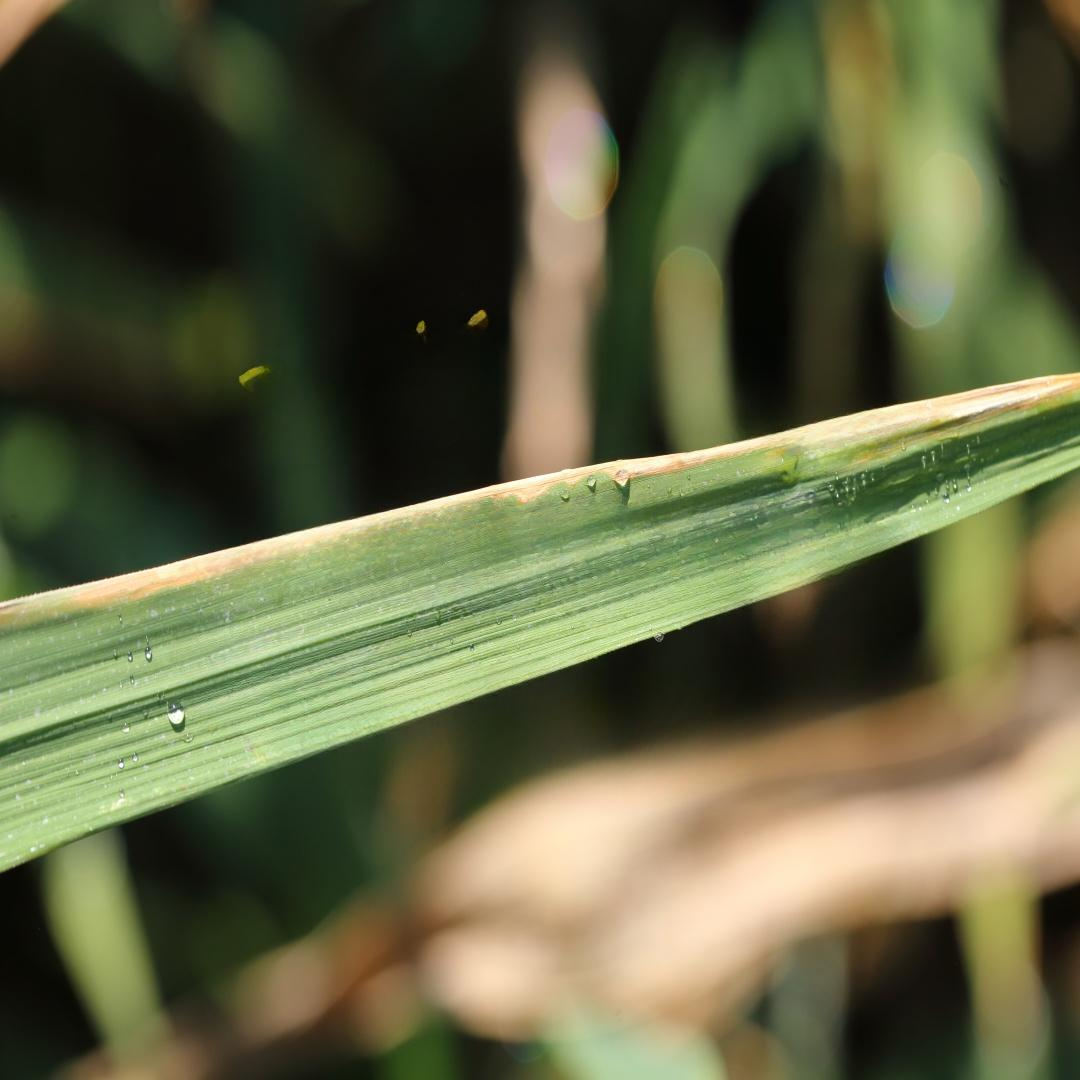BLB: (1, 373, 1078, 625)
LEAF: (0, 372, 1079, 870)
